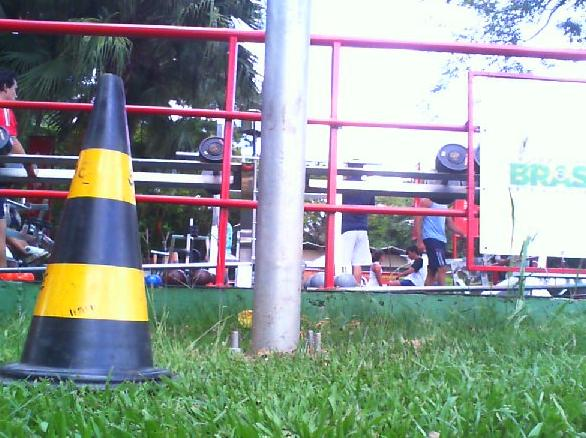0 cone: (0, 74, 175, 393)
